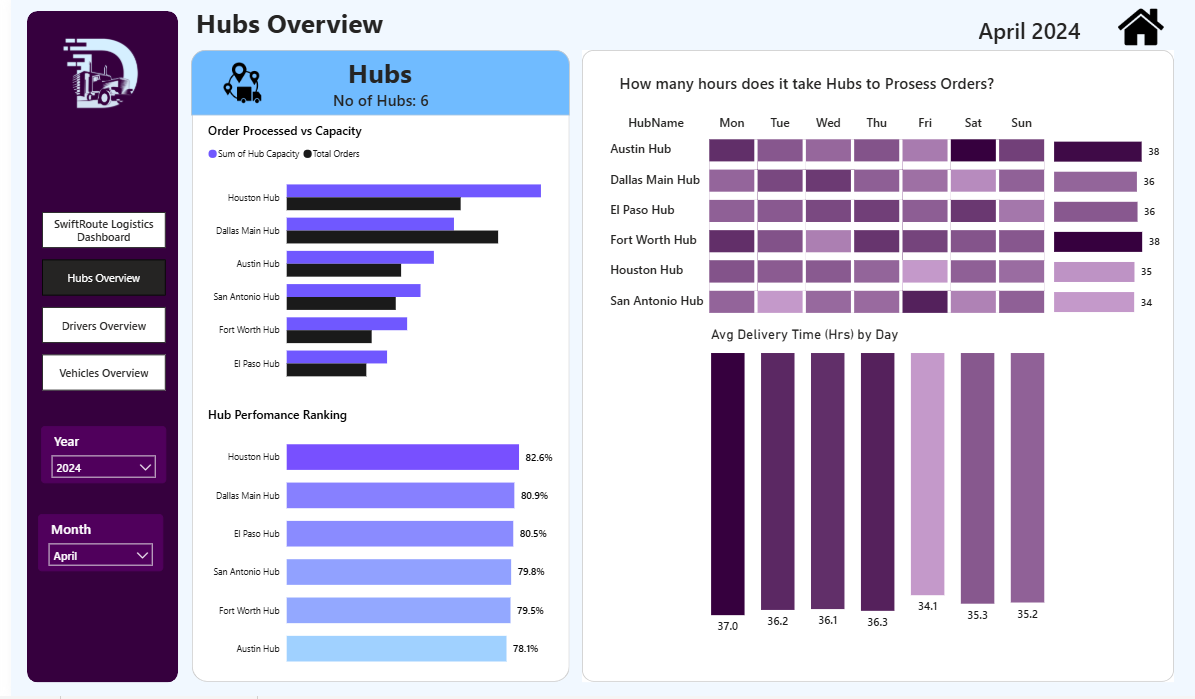

The page's visual inventory and layout, read from the dashboard file:
{"tool":"powerbi","page":{"name":"Hubs Overview","canvas":[1450,850],"ordinal":1},"visuals":[{"type":"shape","box":[19,13.3,184.6,820.1],"z":0},{"type":"textbox","box":[221.1,0,541.1,72.1],"z":1000},{"type":"slicer","fields":{"Values":["Date Table.Month"]},"box":[33.3,628.3,153.3,70],"z":2000},{"type":"image","box":[54.9,36.1,111.3,112.9],"z":3000},{"type":"cardVisual","fields":{"Data":["Orders.Year Month Title"]},"box":[1124.4,9.4,238.4,51.8],"z":4000},{"type":"shape","box":[697.9,61.2,723,771.6],"z":5000},{"type":"image","box":[1351.8,4.7,56.5,56.5],"z":6000},{"type":"shape","box":[221.1,61.2,461.1,771.6],"z":7000},{"type":"shape","box":[219.6,61.2,462.6,80],"z":8000},{"type":"textbox","box":[332.5,61.2,236.8,62.7],"z":9000},{"type":"cardVisual","fields":{"Data":["Hubs.No of Hubs"]},"box":[351.3,100.4,200.7,40.8],"z":10000},{"type":"clusteredBarChart","title":"Order Processed vs Capacity","fields":{"Y":["Sum(Hubs.Hub Capacity)","Orders.Total Orders"],"Category":["Hubs.HubName"]},"box":[235.2,149,432.8,332.5],"z":11000},{"type":"barChart","title":"Hub Perfomance Ranking","fields":{"Category":["Hubs.HubName"],"Y":["Orders.On Time Delivery Rate"]},"box":[235.2,495.6,432.8,337.2],"z":12000},{"type":"pivotTable","fields":{"Rows":["Hubs.HubName"],"Columns":["Date Table.Day"],"Values":["Orders.Avg Delivery Time (Hrs)"]},"box":[721.4,133.3,558.3,265],"z":13000},{"type":"columnChart","fields":{"Category":["Date Table.Day"],"Y":["Orders.Avg Delivery Time (Hrs)"]},"box":[850,398.3,418.7,384.2],"z":14000},{"type":"barChart","fields":{"Category":["Hubs.HubName"],"Y":["Orders.Avg Delivery Time (Hrs)"]},"box":[1268.7,160,166.2,227.4],"z":15000},{"type":"slicer","fields":{"Values":["Date Table.Year"]},"box":[36.7,520,153.3,70],"z":16000},{"type":"cardVisual","fields":{"Data":["Hubs.Hub Title"]},"box":[710.4,80,522.2,40.8],"z":17000},{"type":"pageNavigator","box":[38.3,258.3,151.7,221.7],"z":18000},{"type":"image","box":[235,71.7,96.7,58.3],"z":19000}]}

Visuals, with their boxes in screenshot pixels (x1, y1, x2, y2), scaled from the page's 1450x850 canvas onto the 1195x699 screenshot:
shape: 16, 11, 168, 685
textbox: 182, 0, 628, 59
slicer - Date Table.Month: 27, 517, 154, 574
image: 45, 30, 137, 123
cardVisual - Orders.Year Month Title: 927, 8, 1123, 50
shape: 575, 50, 1171, 685
image: 1114, 4, 1161, 50
shape: 182, 50, 562, 685
shape: 181, 50, 562, 116
textbox: 274, 50, 469, 102
cardVisual - Hubs.No of Hubs: 290, 83, 455, 116
"Order Processed vs Capacity" clusteredBarChart: 194, 123, 551, 396
"Hub Perfomance Ranking" barChart: 194, 408, 551, 685
pivotTable - Hubs.HubName x Date Table.Day: 595, 110, 1055, 328
columnChart - Date Table.Day x Orders.Avg Delivery Time (Hrs): 701, 328, 1046, 643
barChart - Hubs.HubName x Orders.Avg Delivery Time (Hrs): 1046, 132, 1183, 319
slicer - Date Table.Year: 30, 428, 157, 485
cardVisual - Hubs.Hub Title: 585, 66, 1016, 99
pageNavigator: 32, 212, 157, 395
image: 194, 59, 273, 107
